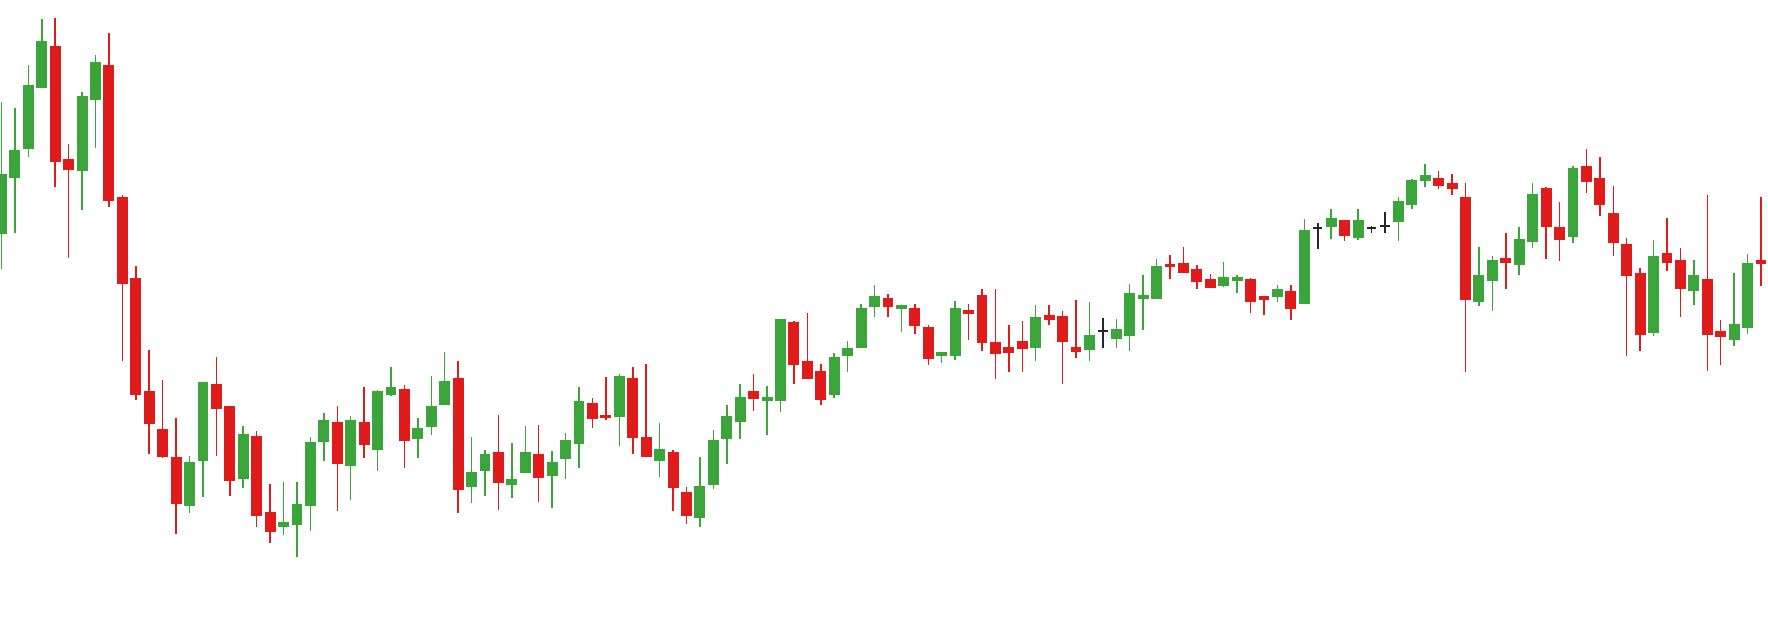buy: (170, 427, 304, 565)
sell: (384, 351, 468, 440)
